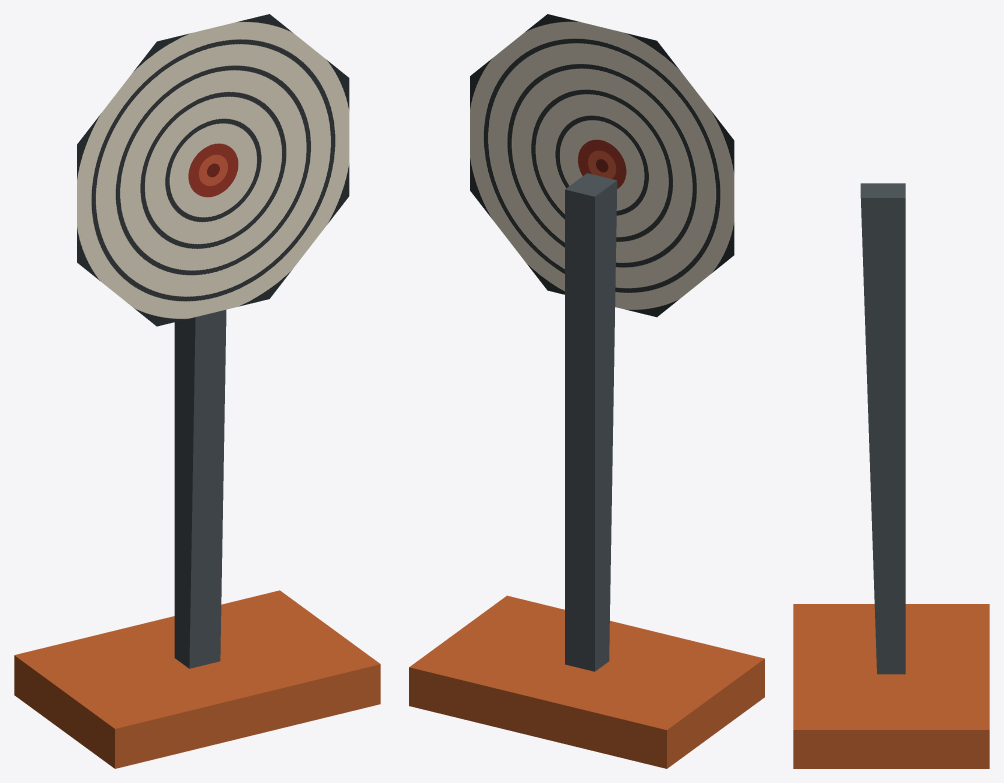
File: Shooting_Range_Target_30tris.glb
3 views of the same model, side by side, from view 1: azimuth 30°, elevation 25°; view 2: azimuth 150°, elevation 25°; view 3: azimuth 270°, elevation 25° (orthographic). The views are drawn at different scales.
Visible parts, largest first — view 1: Target, Base, Upright; view 2: Target, Base, Upright; view 3: Base, Upright.
Boxes of the visible parts, left/top/right/bottom form: Target: left=77, top=14, right=349, bottom=326; Base: left=14, top=590, right=380, bottom=768; Upright: left=174, top=310, right=226, bottom=668; Target: left=470, top=14, right=734, bottom=317; Base: left=409, top=595, right=764, bottom=768; Upright: left=565, top=173, right=617, bottom=671; Base: left=793, top=604, right=989, bottom=768; Upright: left=860, top=183, right=905, bottom=674.
Size of the model in its own units: 0.7483 by 1.79 by 0.48.
Materials: 3 (1 with a texture image).
